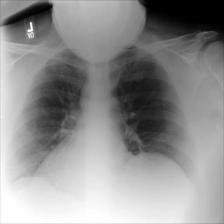normal: (9, 41, 200, 192)
